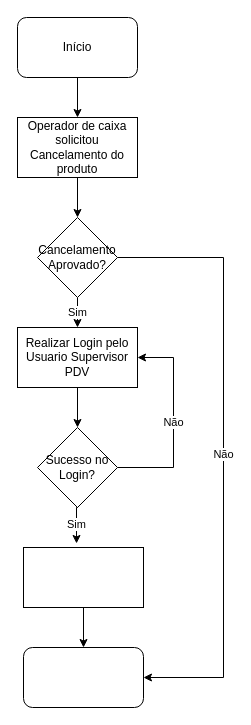
The diagram is 251 pixels wide and 725 high, and some of its shapes have lost their labels. The centre of each missing label's shape, as x and y in pixels:
"Aplicar Cancelamento" goes at [83,577].
"Fim" goes at [83,677].
